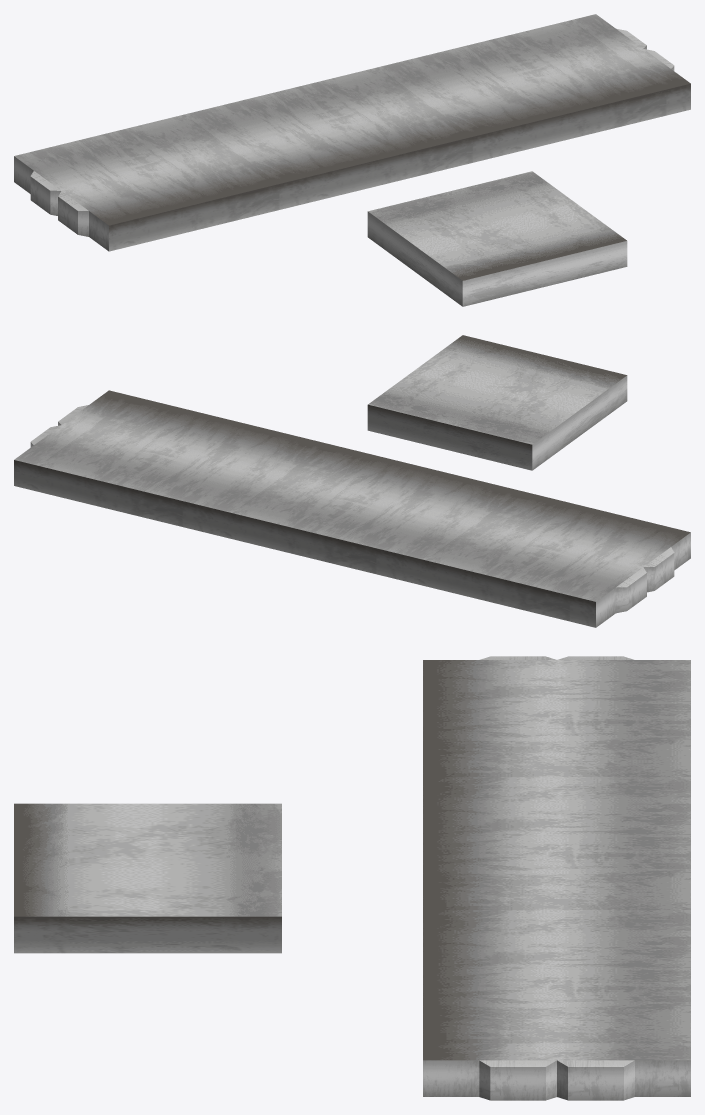
The model's file is lights.fbx.
3 renders of one model, top to bottom at view 1: azimuth 30°, elevation 25°; view 2: azimuth 150°, elevation 25°; view 3: azimuth 270°, elevation 25°, orthographic. The views are drawn at different scales.
Parts seen in each view (by area): view 1: Small_Light, Big_Light; view 2: Small_Light, Big_Light; view 3: Small_Light, Big_Light.
Boxes of the visible parts, x1,y1,x2,y2 form: Small_Light: (14, 14, 690, 251); Big_Light: (367, 171, 627, 306); Small_Light: (14, 390, 690, 627); Big_Light: (367, 335, 627, 470); Small_Light: (423, 656, 690, 1100); Big_Light: (14, 803, 281, 953).
Size of the model in its own units: 725 by 30.23 by 505.
2 materials, 2 textured.
